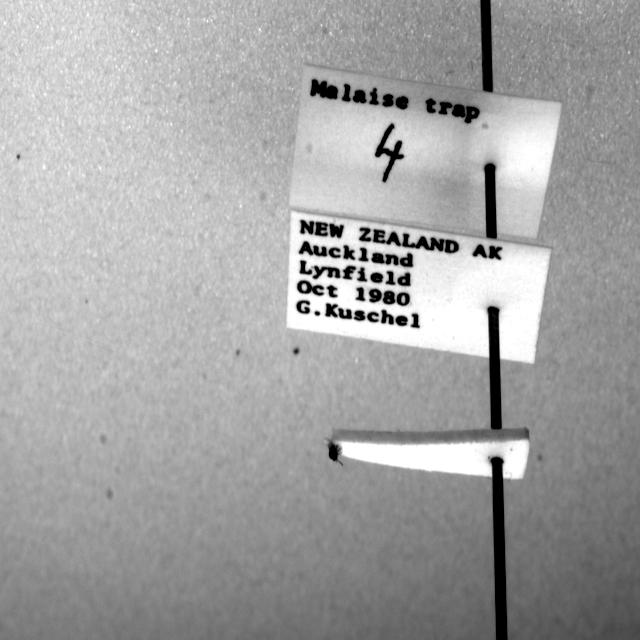mixed_label: (290, 66, 561, 238)
typed_label: (288, 210, 551, 364)
